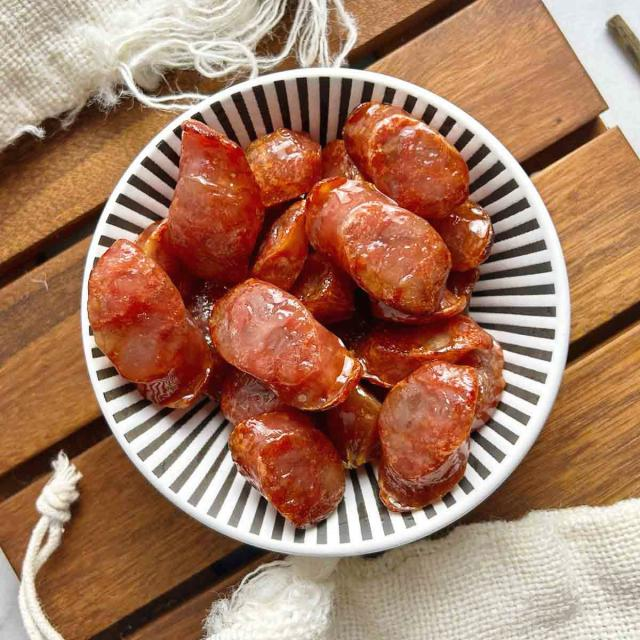chinese_sausage: (90, 112, 501, 526), (207, 279, 362, 415), (89, 240, 210, 413), (303, 177, 449, 314), (378, 362, 496, 508), (172, 120, 263, 287), (345, 102, 468, 214), (228, 415, 345, 526), (249, 130, 321, 205)
